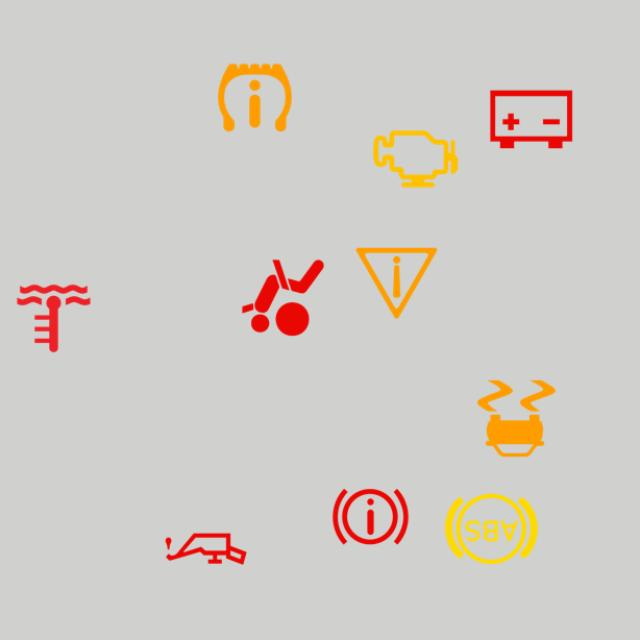Anti Lock Braking System: (441, 478, 542, 580)
Braking System Issue: (320, 466, 421, 567)
Charging System Issue: (481, 69, 582, 170)
Check Engine: (365, 109, 466, 210)
Electronic Stability Problem -ESP-: (466, 368, 567, 469)
Engine Overheating Warning Light: (3, 268, 104, 369)
Low Engine Oil Warning Light: (156, 498, 256, 600)
Low Tire Pressure Warning Light: (204, 47, 306, 148)
Master warning light: (346, 232, 447, 334)
SRS-Airbag: (232, 247, 334, 348)
